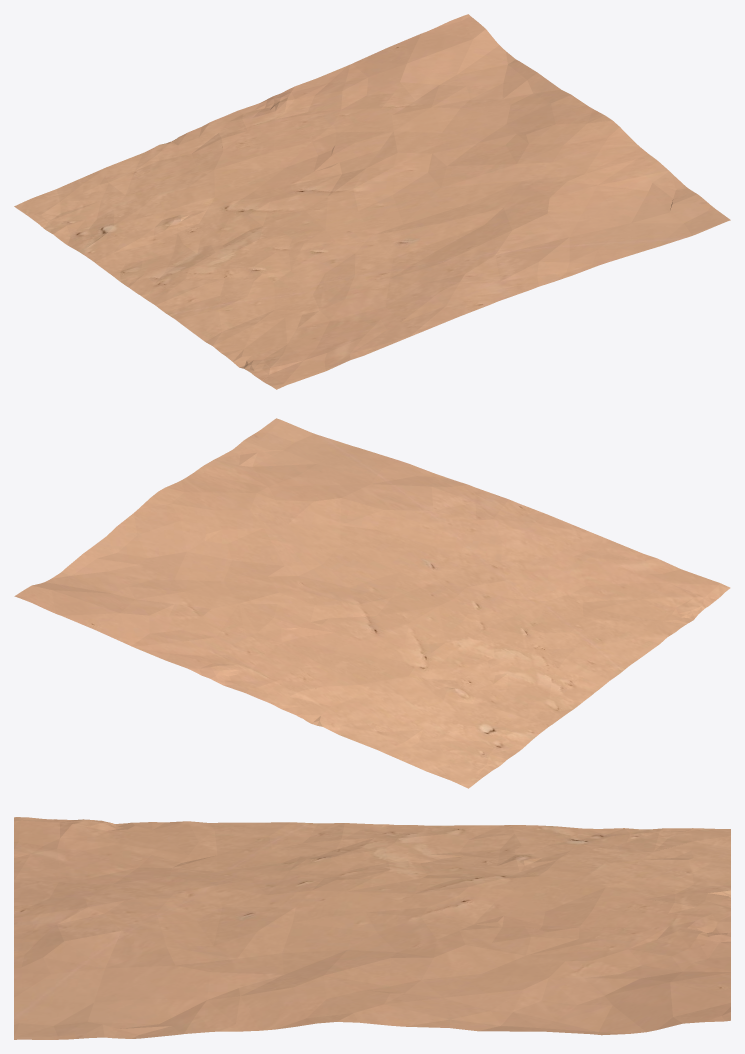
The picture shows the model from 3 angles, top to bottom: view 1: azimuth 30°, elevation 25°; view 2: azimuth 150°, elevation 25°; view 3: azimuth 270°, elevation 25°; orthographic projection. The views are drawn at different scales.
Size of the model in its own units: 1.04 by 0.1796 by 1.04.
2 materials, 2 textured.
